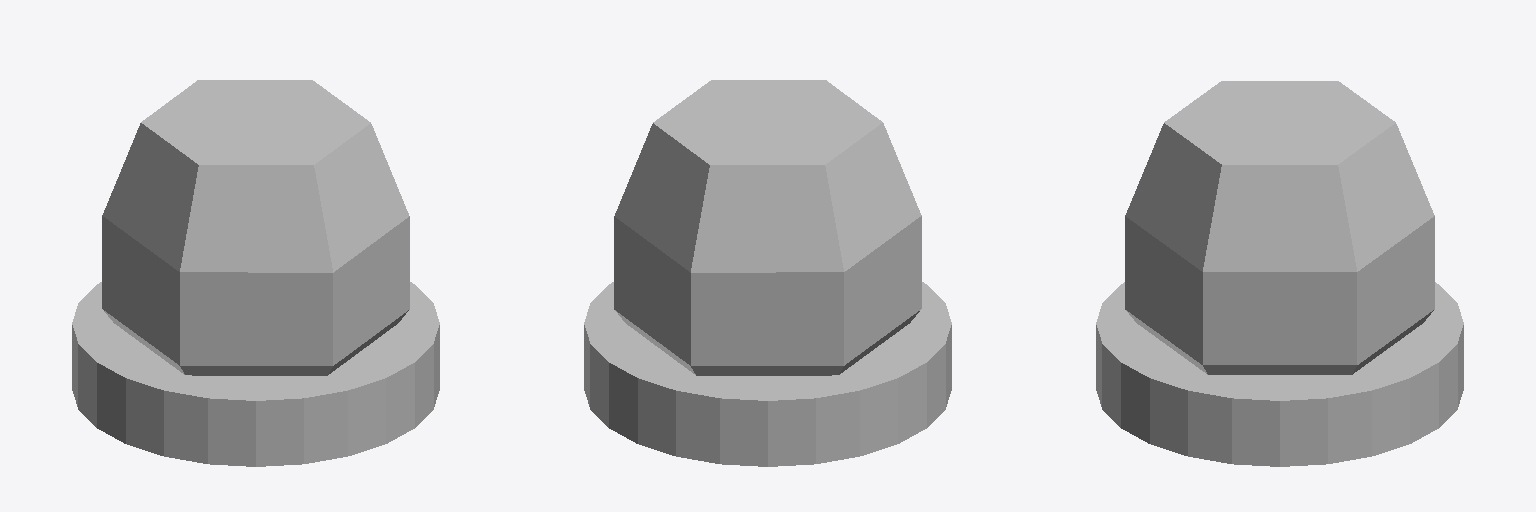
The model's file is gems_topaz_4.obj.
3 renders of one model, left to right at view 1: azimuth 30°, elevation 25°; view 2: azimuth 150°, elevation 25°; view 3: azimuth 270°, elevation 25°, orthographic.
Visible parts, largest first — view 1: mergedBlocks; view 2: mergedBlocks; view 3: mergedBlocks.
Boxes of the visible parts, x1,y1,x2,y2 form: mergedBlocks: [72, 80, 439, 466]; mergedBlocks: [584, 80, 951, 466]; mergedBlocks: [1096, 81, 1463, 466].
Size of the model in its own units: 1 by 0.8 by 1.